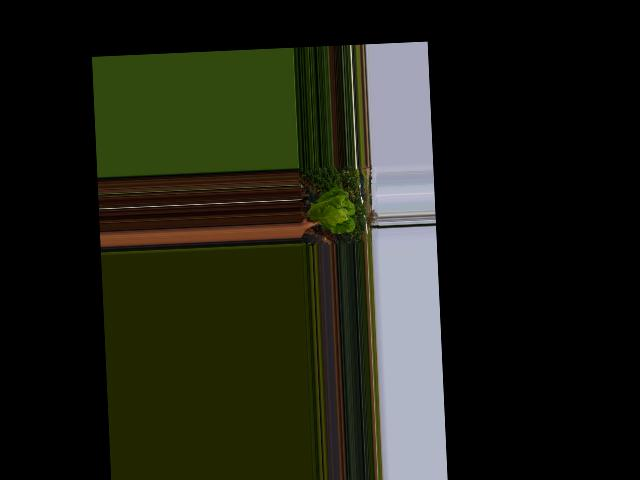lettuce: (302, 186, 356, 237)
